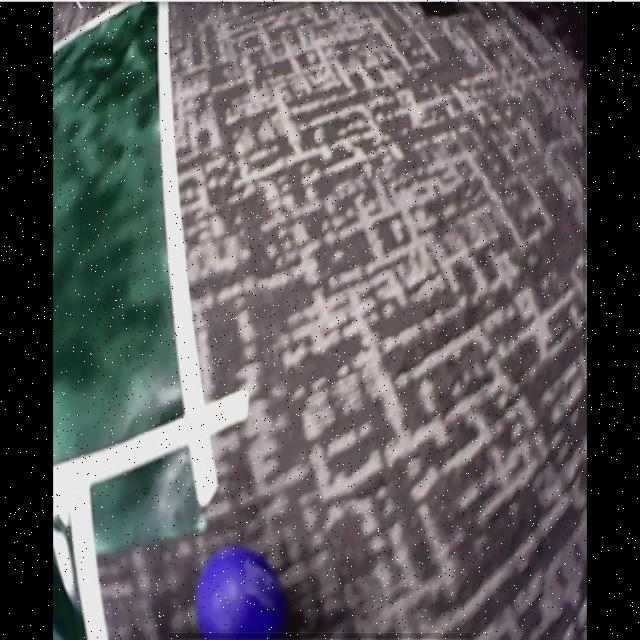ball: (197, 547, 291, 640)
